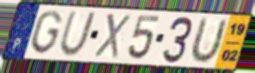3: (160, 14, 194, 65)
5: (127, 14, 162, 61)
G: (28, 9, 64, 56)
U: (187, 16, 229, 66), (57, 10, 98, 58)
X: (92, 12, 132, 61)
